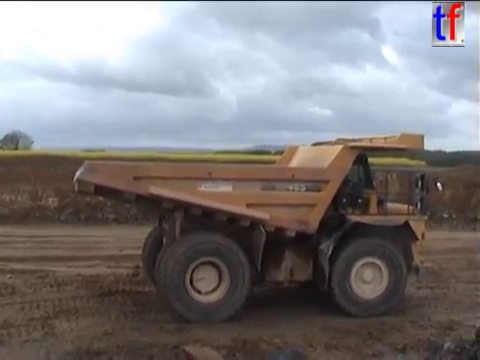truck: (71, 131, 445, 326)
